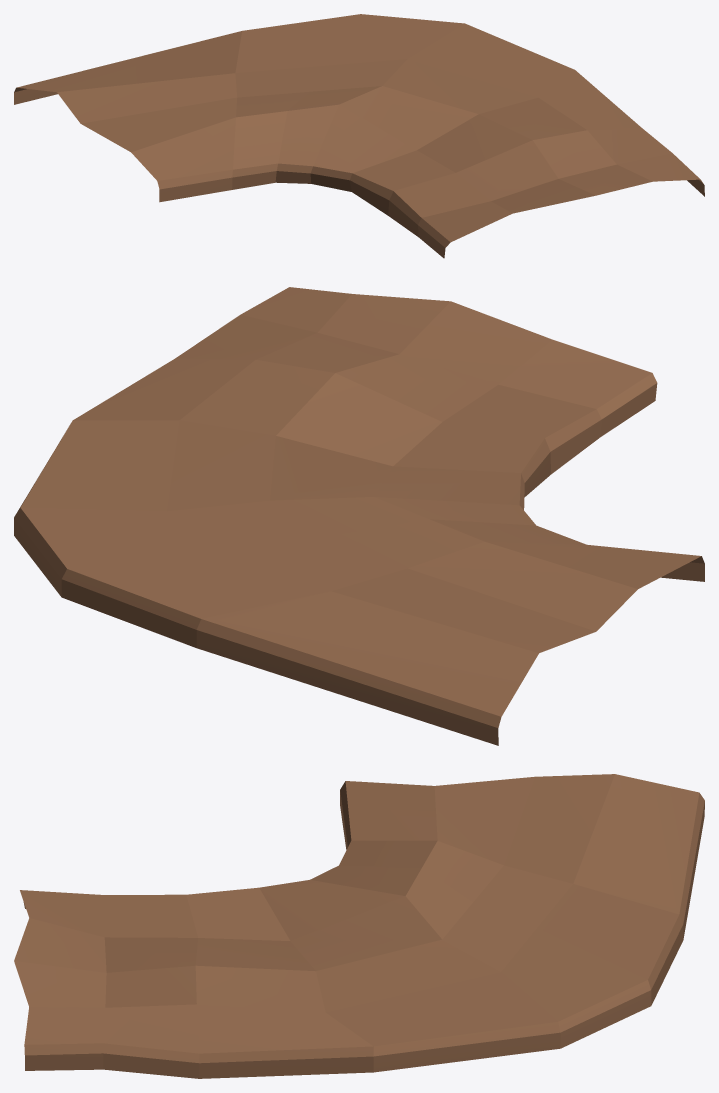
File: RoadTile_4.fbx
3 renders of one model, top to bottom at view 1: azimuth 30°, elevation 25°; view 2: azimuth 150°, elevation 25°; view 3: azimuth 270°, elevation 25°, orthographic. The views are drawn at different scales.
Visible parts, largest first — view 1: RoadTile_4; view 2: RoadTile_4; view 3: RoadTile_4.
Part boxes in pixels (x1,y1,x2,y2): RoadTile_4: (14, 14, 704, 258); RoadTile_4: (14, 287, 704, 745); RoadTile_4: (14, 774, 704, 1078).
Size of the model in its own units: 687 by 58.59 by 753.
